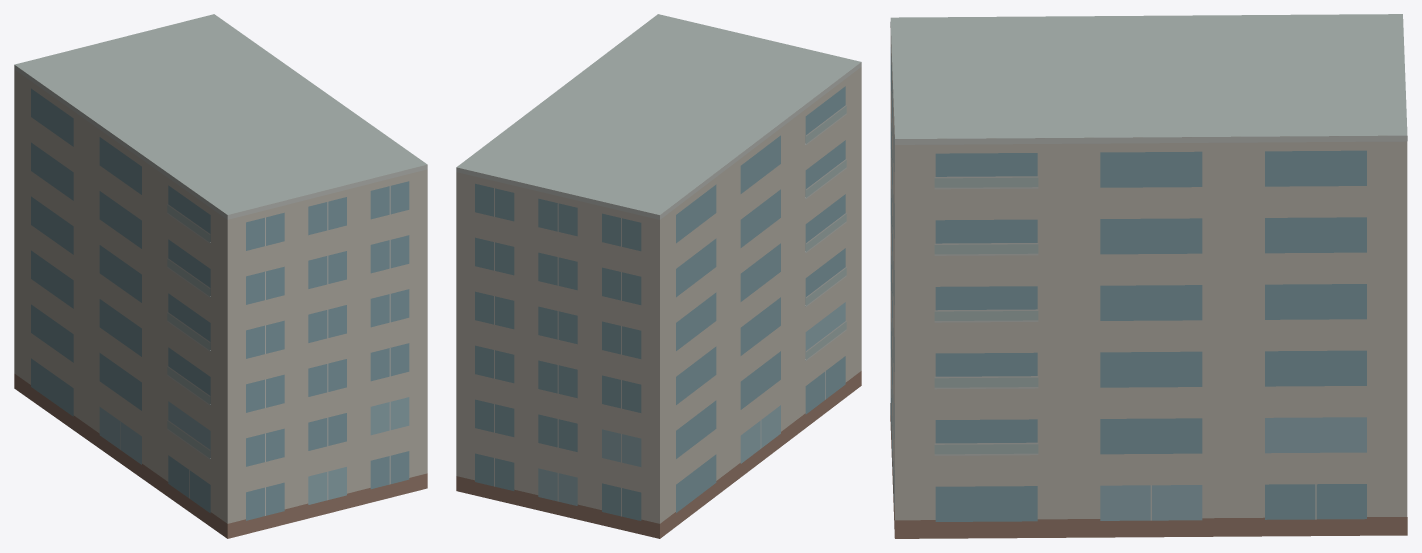
The model's file is survey-upis-32876267.glb.
3 views of the same model, side by side, from view 1: azimuth 30°, elevation 25°; view 2: azimuth 150°, elevation 25°; view 3: azimuth 270°, elevation 25° (orthographic). The views are drawn at different scales.
Visible parts, largest first — view 1: survey-upis-32876267.tmp; view 2: survey-upis-32876267.tmp; view 3: survey-upis-32876267.tmp.
Part boxes in pixels (left/top/right/bottom): survey-upis-32876267.tmp: left=14, top=14, right=427, bottom=538; survey-upis-32876267.tmp: left=456, top=14, right=861, bottom=538; survey-upis-32876267.tmp: left=890, top=14, right=1407, bottom=538.
Bounding box in the file's own units: 11.16 × 16.6 × 19.47.
